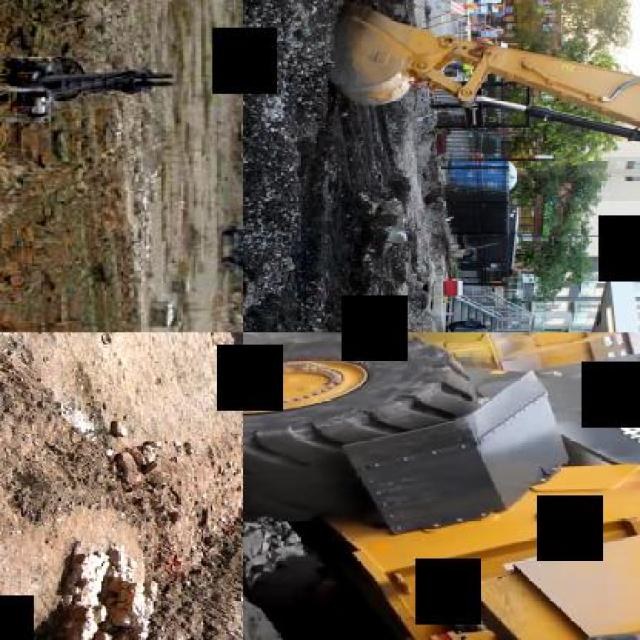buldozerpayloadergrader: (243, 332, 639, 638)
excavator: (317, 0, 638, 165)
